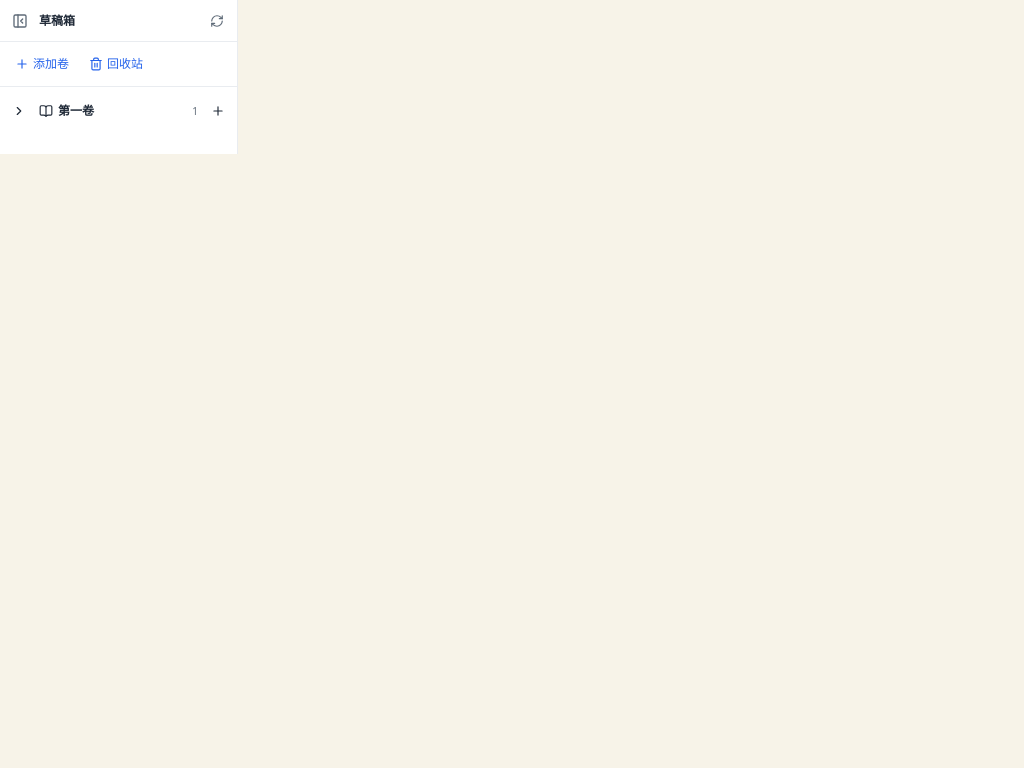
Test: opens insertion at the selected chapter and preserves all candidate drafts
The width and height of the screenshot is (1024, 768).
Step 1. Click the 1st button with class "chapter-outline-arrow" → x=19, y=111, box [6,96,32,126]
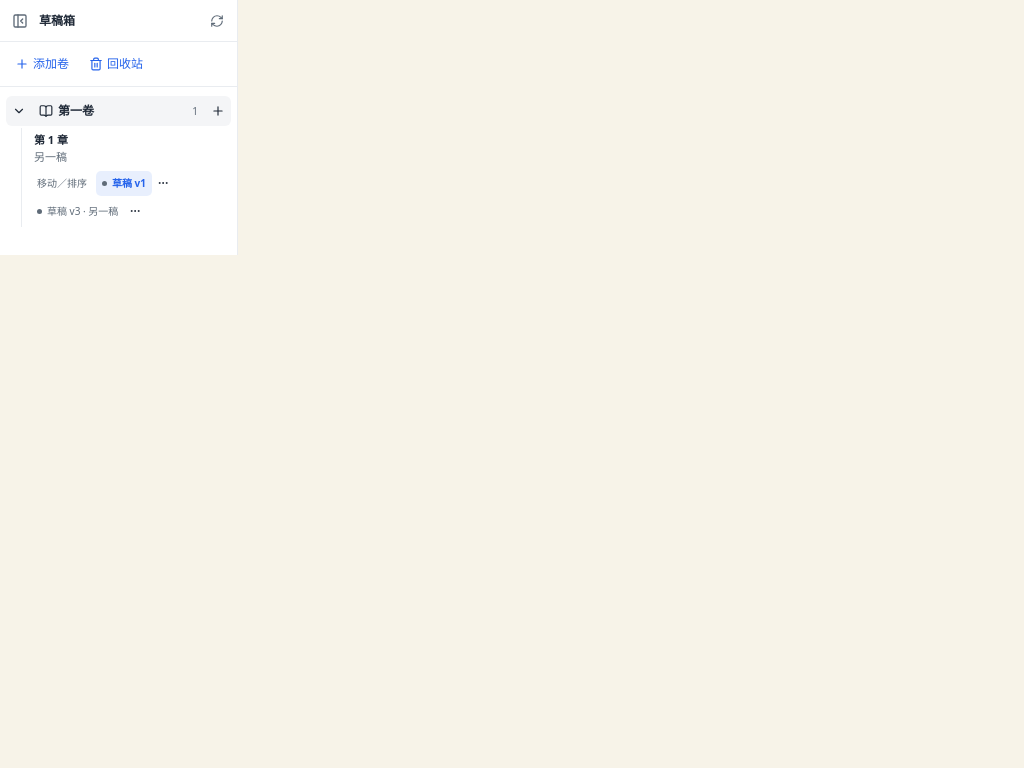
Now the text "草稿 v1" is shown, box [112,176,146,191]
Now the text "草稿 v3" is shown, box [47,204,80,218]
Step 2. Right-click the element with class "chapter-outline-chapter" → x=126, y=177, box [21,128,231,227]
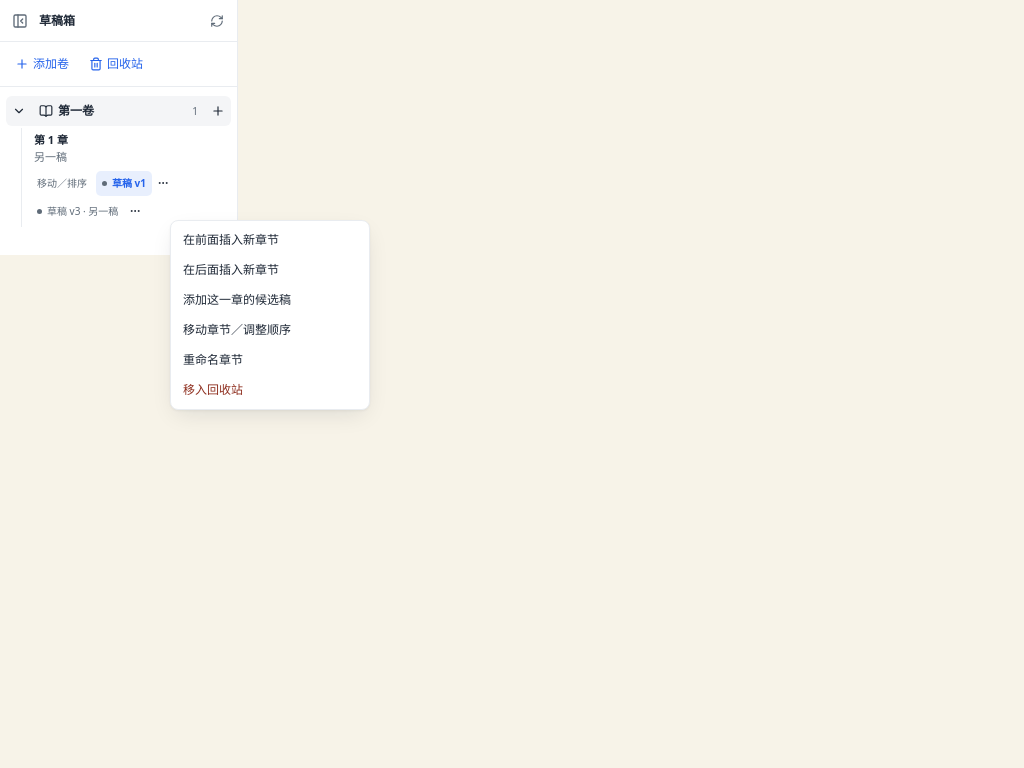
Step 3. Click the button "在前面插入新章节" → x=270, y=240, box [171,225,369,255]
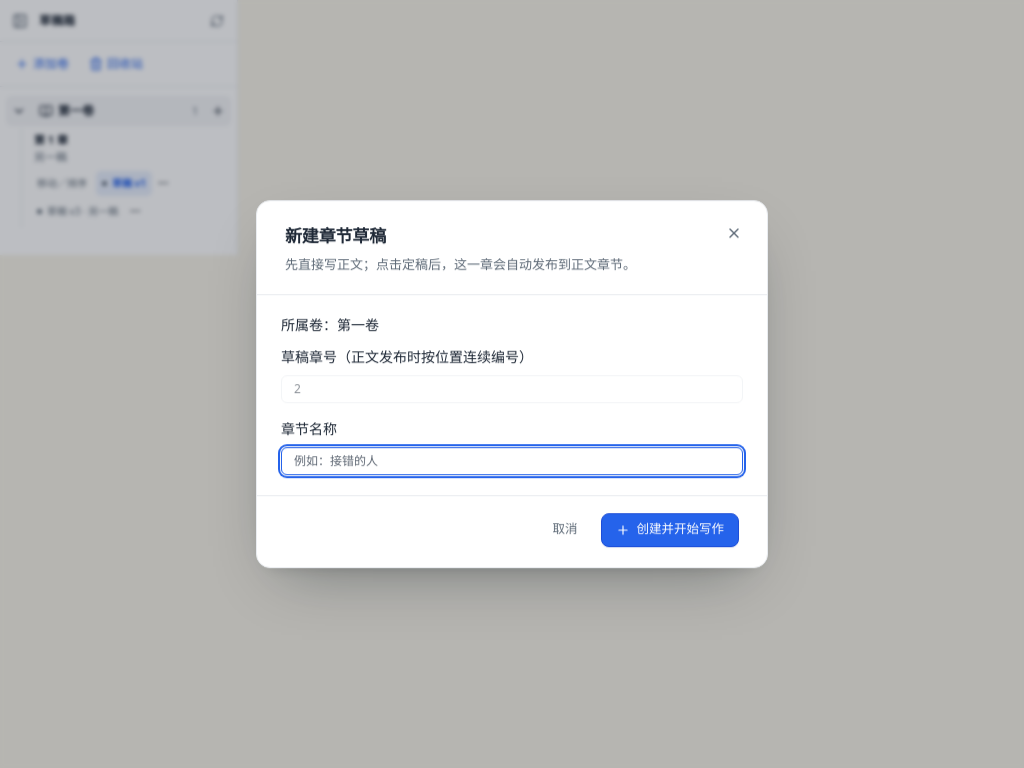
Now the number field with id "new-draft-chapter-number" is disabled, box [281,375,743,403]
Now the field with id "new-draft-chapter-title" is shown, box [281,447,743,475]
